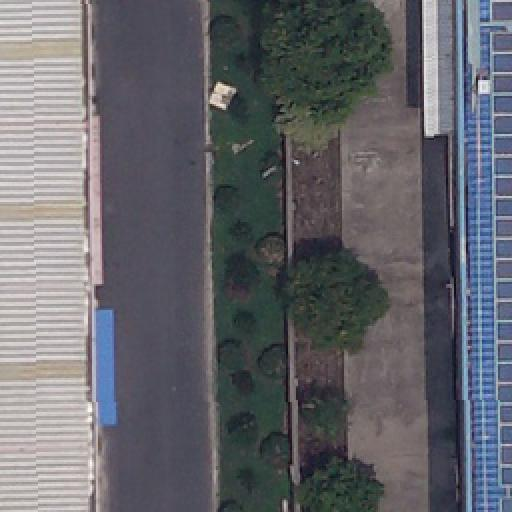solar-panel: (485, 0, 512, 487)
